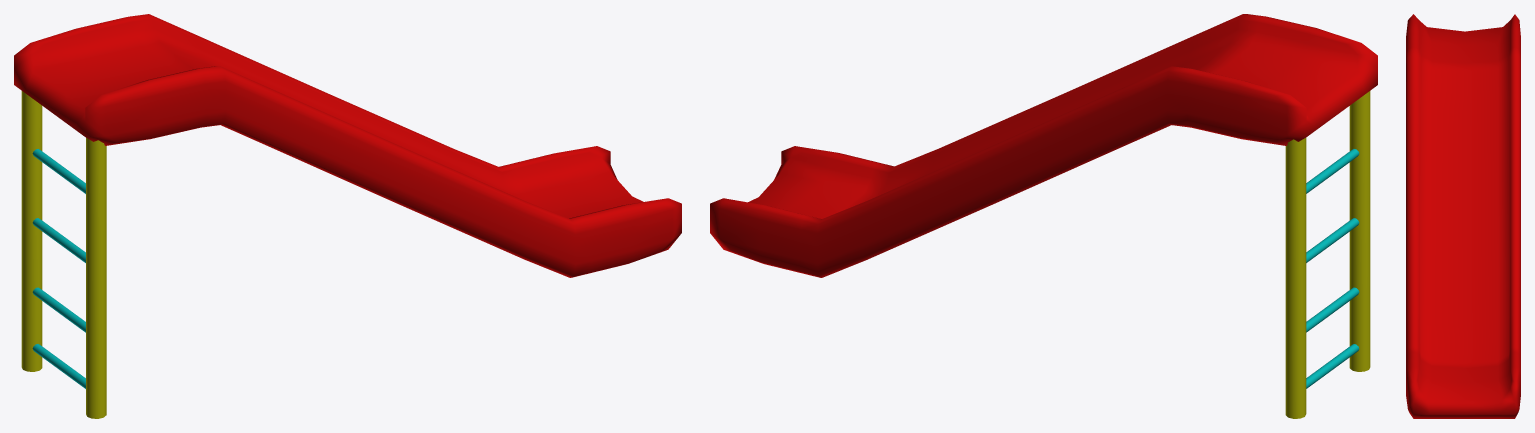
The model's file is Slide_Playground.fbx.
3 renders of one model, left to right at view 1: azimuth 30°, elevation 25°; view 2: azimuth 150°, elevation 25°; view 3: azimuth 270°, elevation 25°, orthographic. The views are drawn at different scales.
Parts seen in each view (by area): view 1: polySurface1; view 2: polySurface1; view 3: polySurface1.
Part boxes in pixels (<box>): polySurface1: <box>14,14,681,418</box>; polySurface1: <box>710,14,1377,418</box>; polySurface1: <box>1406,14,1520,418</box>.
Bounding box in the file's own units: 4.26 × 2.22 × 1.
